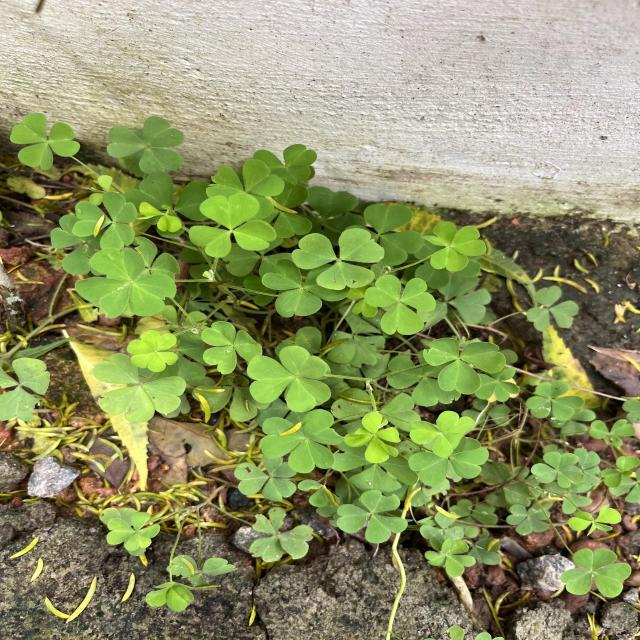Oxalis corniculata: (72, 246, 179, 318), (91, 352, 188, 423), (188, 192, 278, 258), (246, 345, 332, 413), (291, 227, 385, 289), (260, 408, 345, 474), (423, 337, 507, 395), (106, 114, 187, 174), (362, 274, 438, 336), (8, 112, 82, 170), (336, 488, 408, 546), (71, 190, 139, 250), (559, 547, 634, 599), (420, 220, 488, 272), (200, 320, 262, 376), (410, 410, 477, 459), (344, 411, 402, 464), (234, 454, 297, 502), (524, 379, 586, 422), (126, 328, 178, 374), (106, 509, 161, 552), (530, 450, 586, 488)
